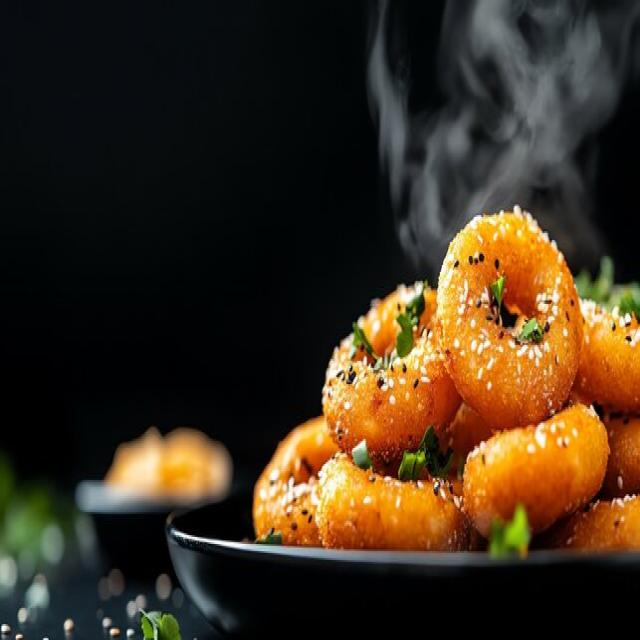MEDU VADA: (436, 210, 584, 430), (324, 285, 466, 459), (461, 406, 611, 534), (314, 456, 461, 556), (253, 418, 343, 547), (575, 298, 639, 405)
